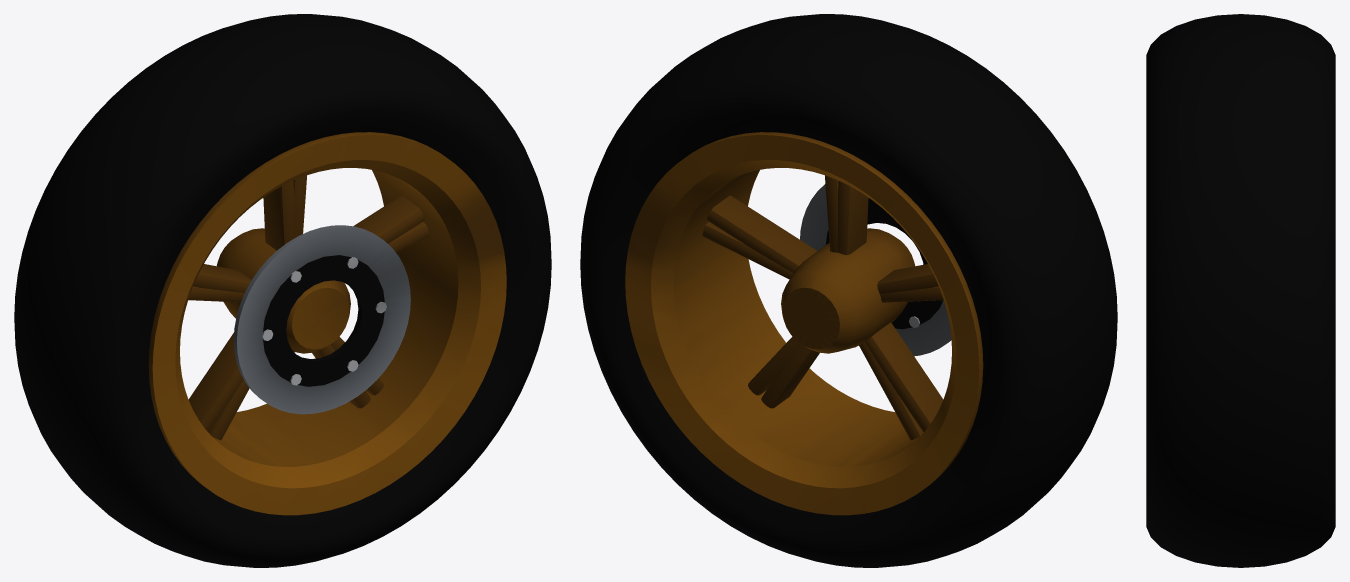
File: bike_corsa_wheelR.glb
3 views of the same model, side by side, from view 1: azimuth 30°, elevation 25°; view 2: azimuth 150°, elevation 25°; view 3: azimuth 270°, elevation 25° (orthographic). The views are drawn at different scales.
Visible parts, largest first — view 1: bk_wheelR_tyre, bk_wheelR_rim, bk_wheelR_disc0.09, bk_wheelR_carrier0.09, bk_wheelR_hub, bk_wheelR_sp3_-11, bk_wheelR_sp0_11, bk_wheelR_sp1_11, bk_wheelR_sp2_-11, bk_wheelR_sp3_11, bk_wheelR_sp1_-11; view 2: bk_wheelR_tyre, bk_wheelR_rim, bk_wheelR_hub, bk_wheelR_sp3_-11, bk_wheelR_sp0_11, bk_wheelR_disc0.09, bk_wheelR_sp1_11, bk_wheelR_sp4_-11, bk_wheelR_carrier0.09, bk_wheelR_sp2_-11, bk_wheelR_sp3_11, bk_wheelR_sp0_-11 (+3 smaller); view 3: bk_wheelR_tyre.
Part boxes in pixels (x1,y1,x2,y2): bk_wheelR_tyre: (14, 14, 551, 567); bk_wheelR_rim: (148, 132, 506, 515); bk_wheelR_disc0.09: (233, 225, 410, 414); bk_wheelR_carrier0.09: (263, 255, 384, 386); bk_wheelR_hub: (216, 228, 350, 353); bk_wheelR_sp3_-11: (188, 332, 243, 432); bk_wheelR_sp0_11: (353, 195, 424, 243); bk_wheelR_sp1_11: (263, 181, 294, 250); bk_wheelR_sp2_-11: (193, 264, 251, 292); bk_wheelR_sp3_11: (208, 379, 249, 440); bk_wheelR_sp1_-11: (293, 175, 306, 238); bk_wheelR_tyre: (580, 14, 1117, 567); bk_wheelR_rim: (625, 132, 983, 515); bk_wheelR_hub: (781, 228, 915, 353); bk_wheelR_sp3_-11: (865, 322, 943, 432); bk_wheelR_sp0_11: (707, 195, 817, 272); bk_wheelR_disc0.09: (800, 184, 951, 356); bk_wheelR_sp1_11: (837, 181, 868, 254); bk_wheelR_sp4_-11: (761, 344, 819, 408); bk_wheelR_carrier0.09: (825, 198, 943, 329); bk_wheelR_sp2_-11: (877, 264, 938, 293); bk_wheelR_sp3_11: (859, 342, 923, 440); bk_wheelR_sp0_-11: (702, 222, 793, 279); bk_wheelR_tyre: (1146, 14, 1335, 567).
Bounding box in the file's own units: 0.65 × 0.65 × 0.2225.
